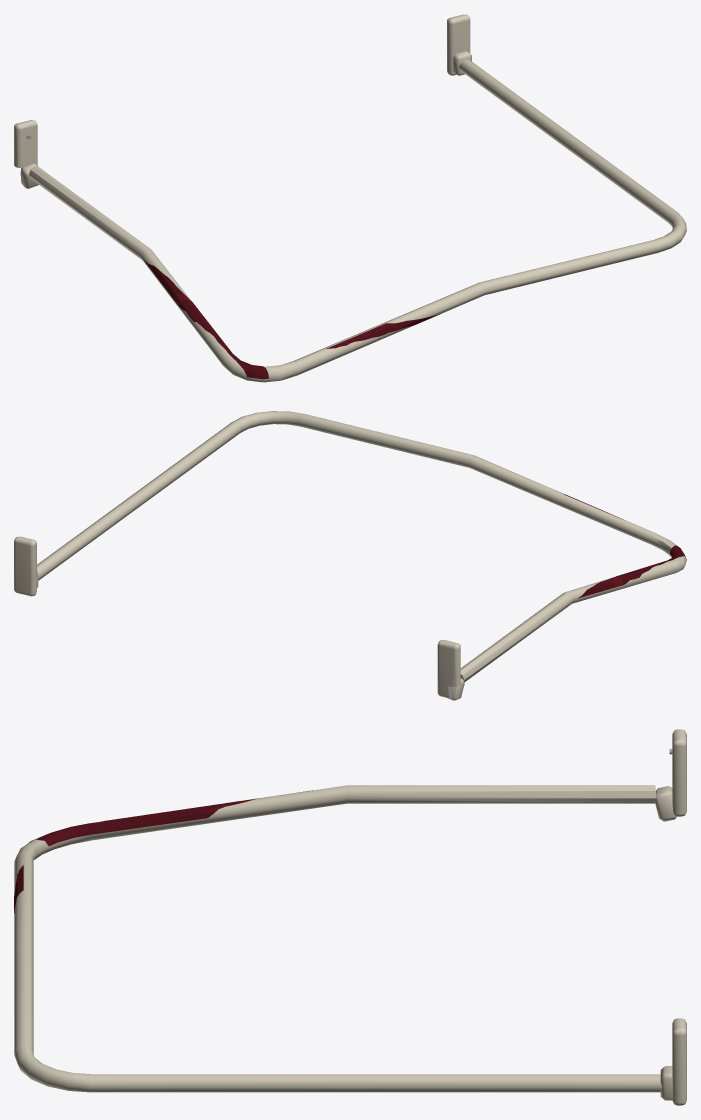
The model's file is curtain_rail.glb.
3 views of the same model, one above another, from view 1: azimuth 30°, elevation 25°; view 2: azimuth 150°, elevation 25°; view 3: azimuth 270°, elevation 25° (orthographic). The views are drawn at different scales.
Parts seen in each view (by area): view 1: Outbreak_Recovery_Curtain_Rail_U_Static; view 2: Outbreak_Recovery_Curtain_Rail_U_Static; view 3: Outbreak_Recovery_Curtain_Rail_U_Static.
Boxes of the visible parts, <box> form: Outbreak_Recovery_Curtain_Rail_U_Static: <box>14,14,686,382</box>; Outbreak_Recovery_Curtain_Rail_U_Static: <box>14,411,686,700</box>; Outbreak_Recovery_Curtain_Rail_U_Static: <box>14,729,686,1105</box>.
Bounding box in the file's own units: 2.48 × 0.4487 × 2.28.
